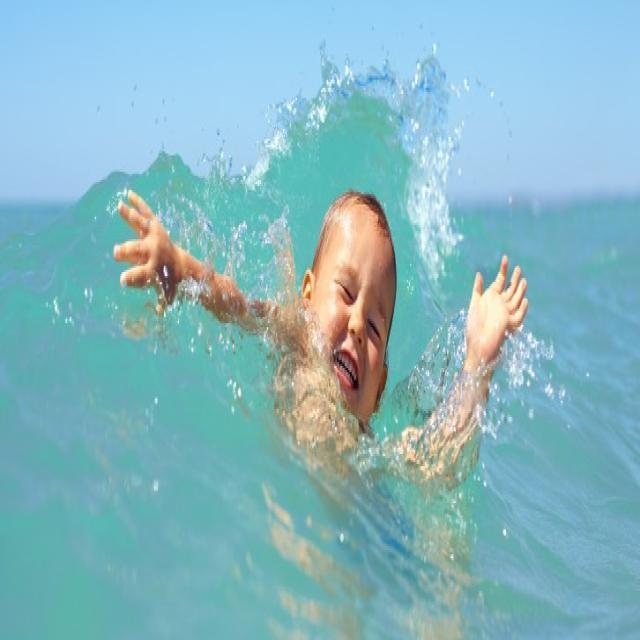Out of Water: (114, 168, 530, 503)
